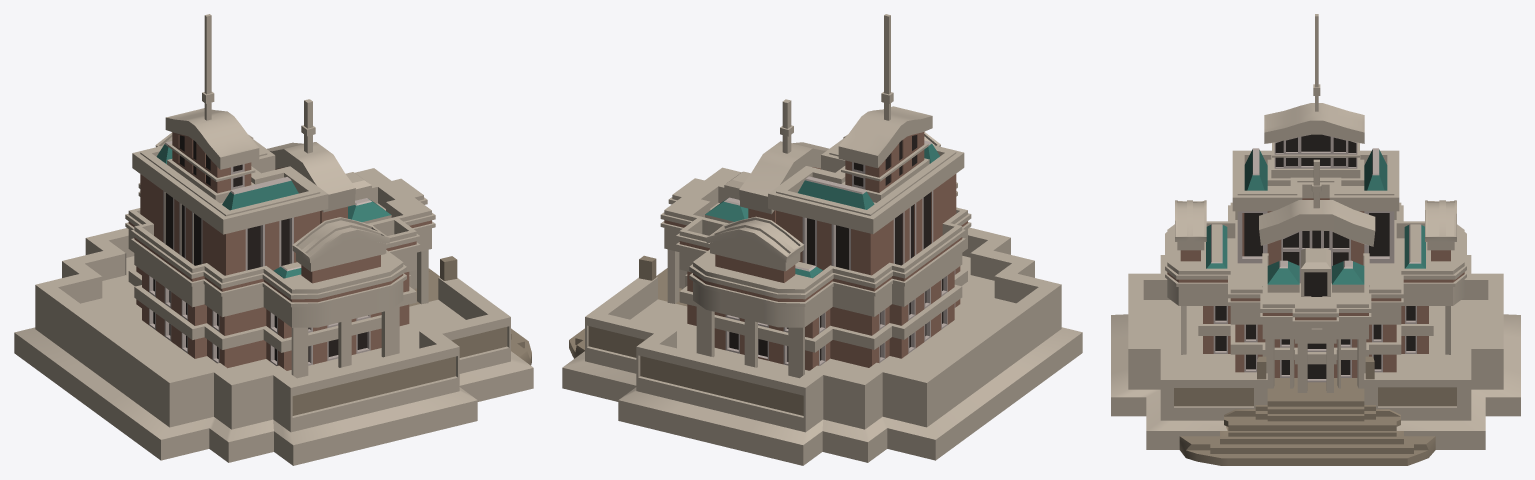
The model's file is 主基地.fbx.
The picture shows the model from 3 angles, left to right: view 1: azimuth 30°, elevation 25°; view 2: azimuth 150°, elevation 25°; view 3: azimuth 270°, elevation 25°; orthographic projection. The views are drawn at different scales.
Visible parts, largest first — view 1: 立方体_17; view 2: 立方体_17; view 3: 立方体_17.
Boxes of the visible parts, x1,y1,x2,y2 form: 立方体_17: (14,14,533,465); 立方体_17: (562,14,1082,465); 立方体_17: (1111,14,1520,465).
Bounding box in the file's own units: 370 × 329 × 369.
